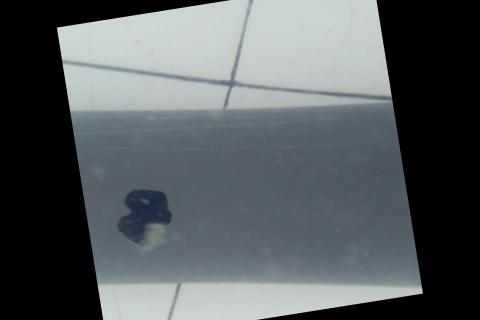kebocoran: (111, 179, 179, 249)
